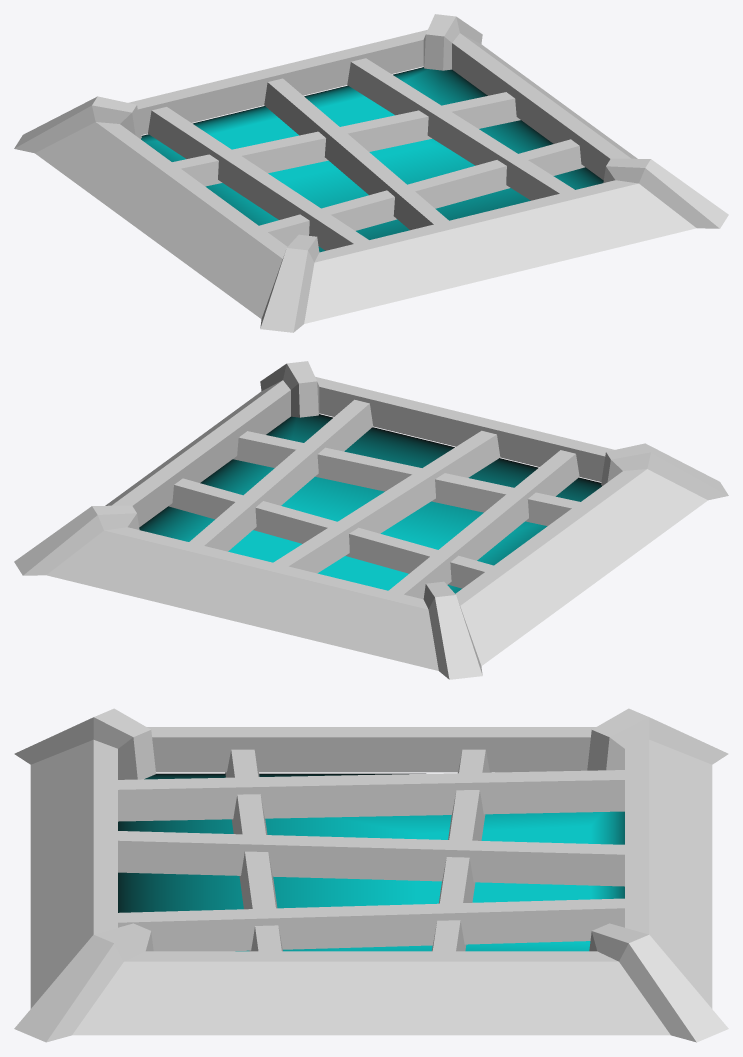
File: obstacle-burner_H3.glb
3 views of the same model, one above another, from view 1: azimuth 30°, elevation 25°; view 2: azimuth 150°, elevation 25°; view 3: azimuth 270°, elevation 25° (orthographic). The views are drawn at different scales.
Visible parts, largest first — view 1: obstacle-burner_H3; view 2: obstacle-burner_H3; view 3: obstacle-burner_H3.
Boxes of the visible parts, x1,y1,x2,y2 form: obstacle-burner_H3: (14, 14, 728, 332); obstacle-burner_H3: (14, 361, 728, 679); obstacle-burner_H3: (14, 708, 728, 1042).
Size of the model in its own units: 2.76 by 0.2795 by 2.76.
